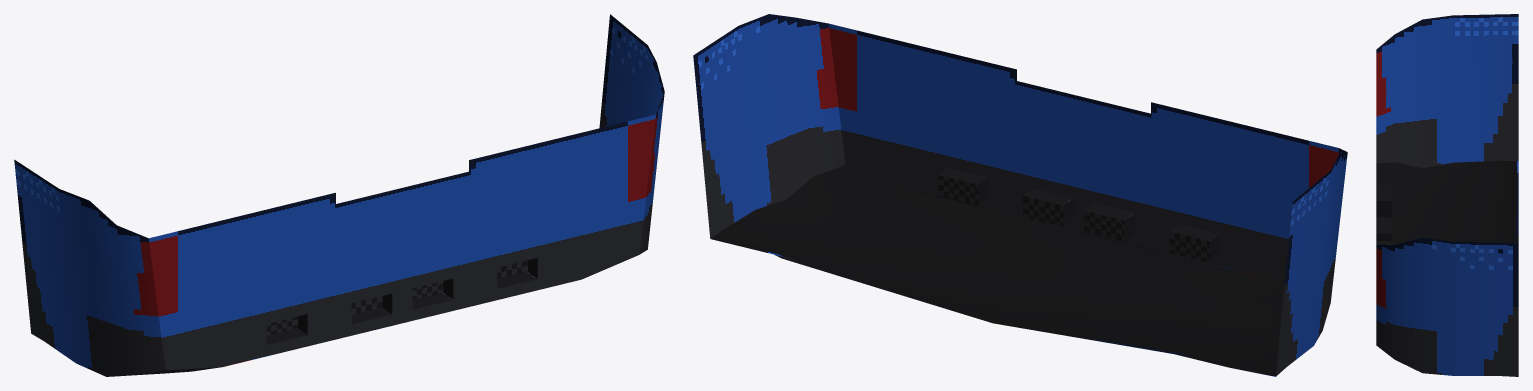
Rendered from bumper_R_diffuser.glb.
The picture shows the model from 3 angles, left to right: view 1: azimuth 30°, elevation 25°; view 2: azimuth 150°, elevation 25°; view 3: azimuth 270°, elevation 25°; orthographic projection. The views are drawn at different scales.
Parts seen in each view (by area): view 1: bumper_R_diffuser; view 2: bumper_R_diffuser; view 3: bumper_R_diffuser.
Part boxes in pixels (box(x1,y1,x2,y2)): bumper_R_diffuser: box(14, 14, 664, 376); bumper_R_diffuser: box(693, 14, 1347, 376); bumper_R_diffuser: box(1376, 14, 1518, 376).
Bounding box in the file's own units: 1.76 × 0.5469 × 0.4625.
1 material, 1 textured.
